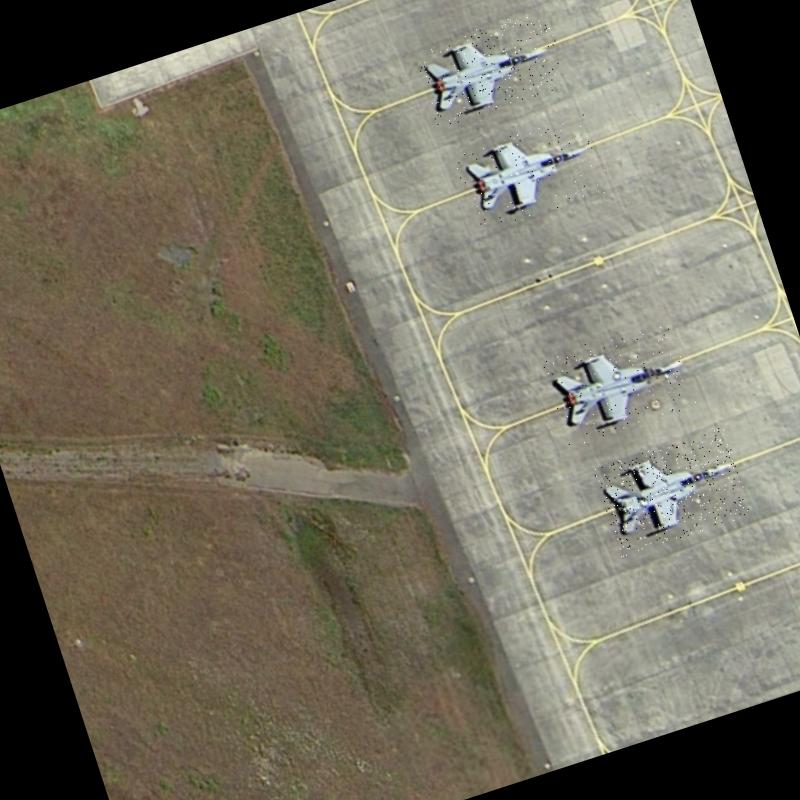A16: (541, 316, 700, 448), (592, 426, 752, 557), (452, 110, 612, 234), (412, 7, 570, 129)
